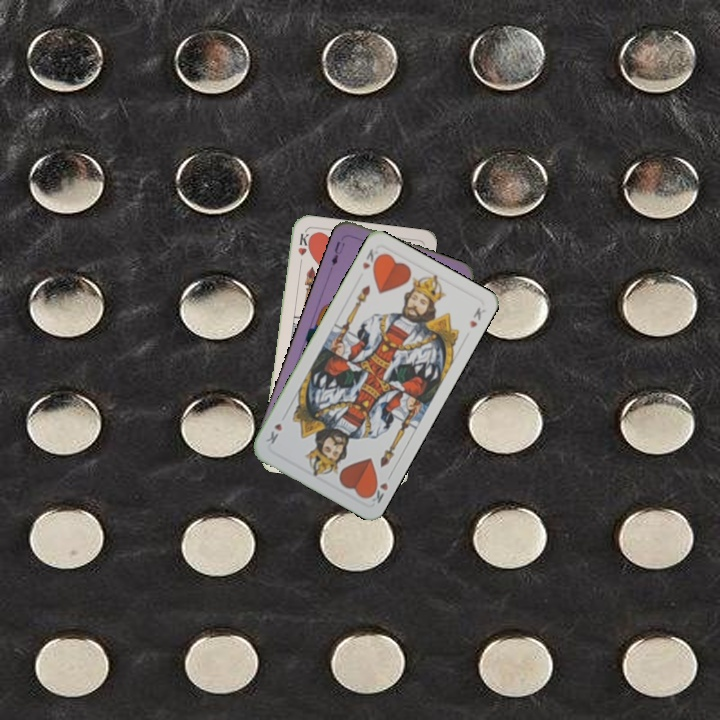EU: (327, 237, 347, 268)
HK: (364, 469, 395, 506), (294, 229, 312, 270), (358, 245, 384, 273)
